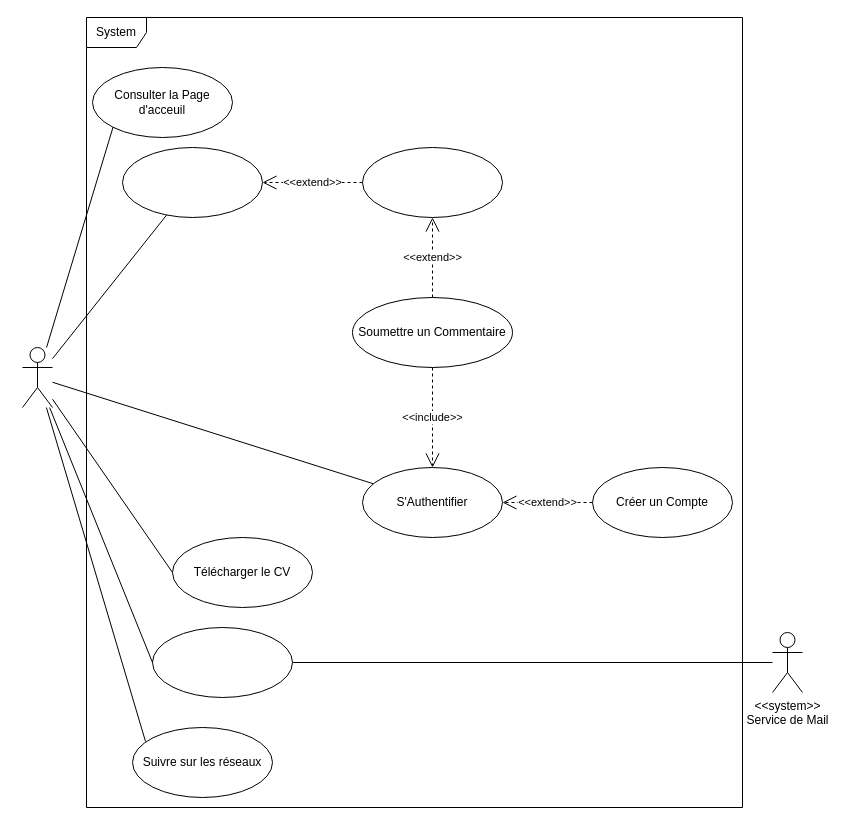
Some shapes in this 846 by 825 pixel diagram are drawn without their labels. Here are the shapes that lost their labels. From the top down, the box of each, then its label:
(122, 146, 262, 218): Voir les Posts
(362, 146, 502, 218): Consulter un Post
(22, 346, 52, 408): Visiteur
(152, 626, 292, 698): Contacter l'administrateur
